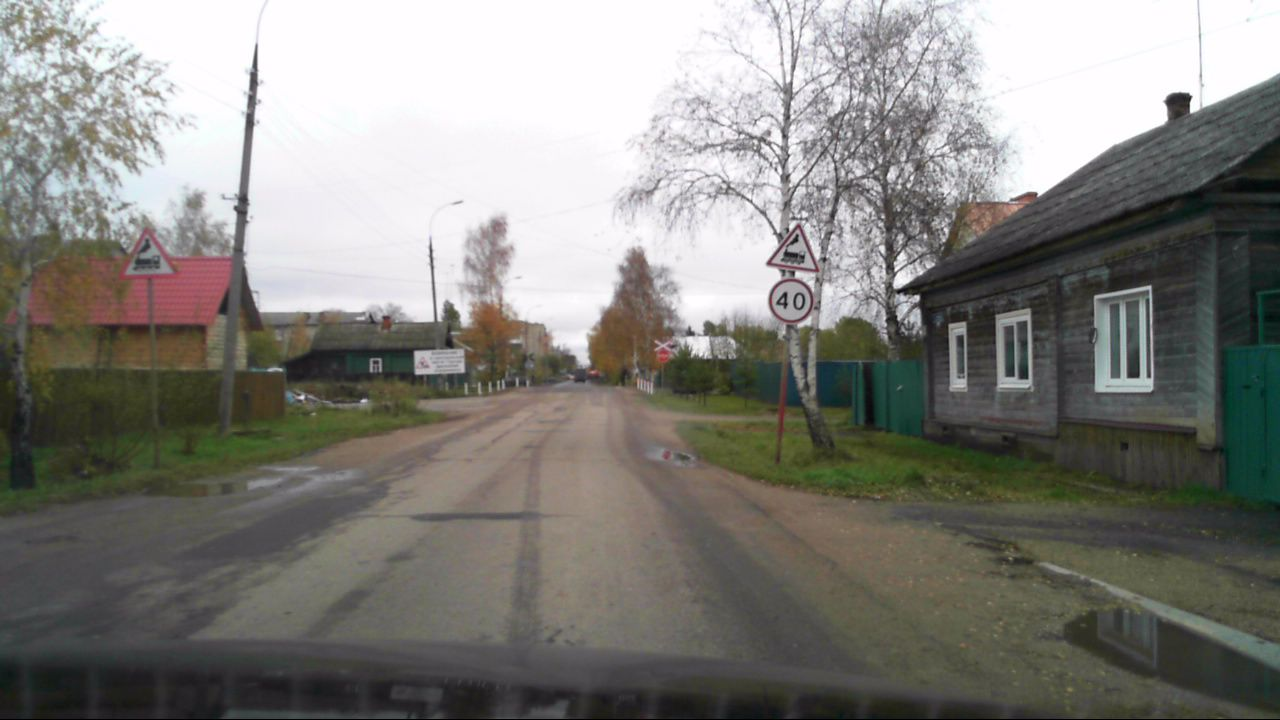speed_warning_40: (766, 277, 814, 323)
